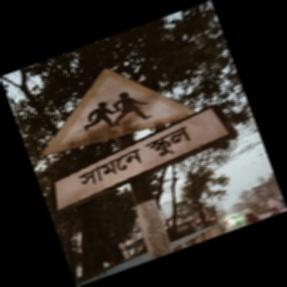School-in-front: (45, 67, 231, 208)
